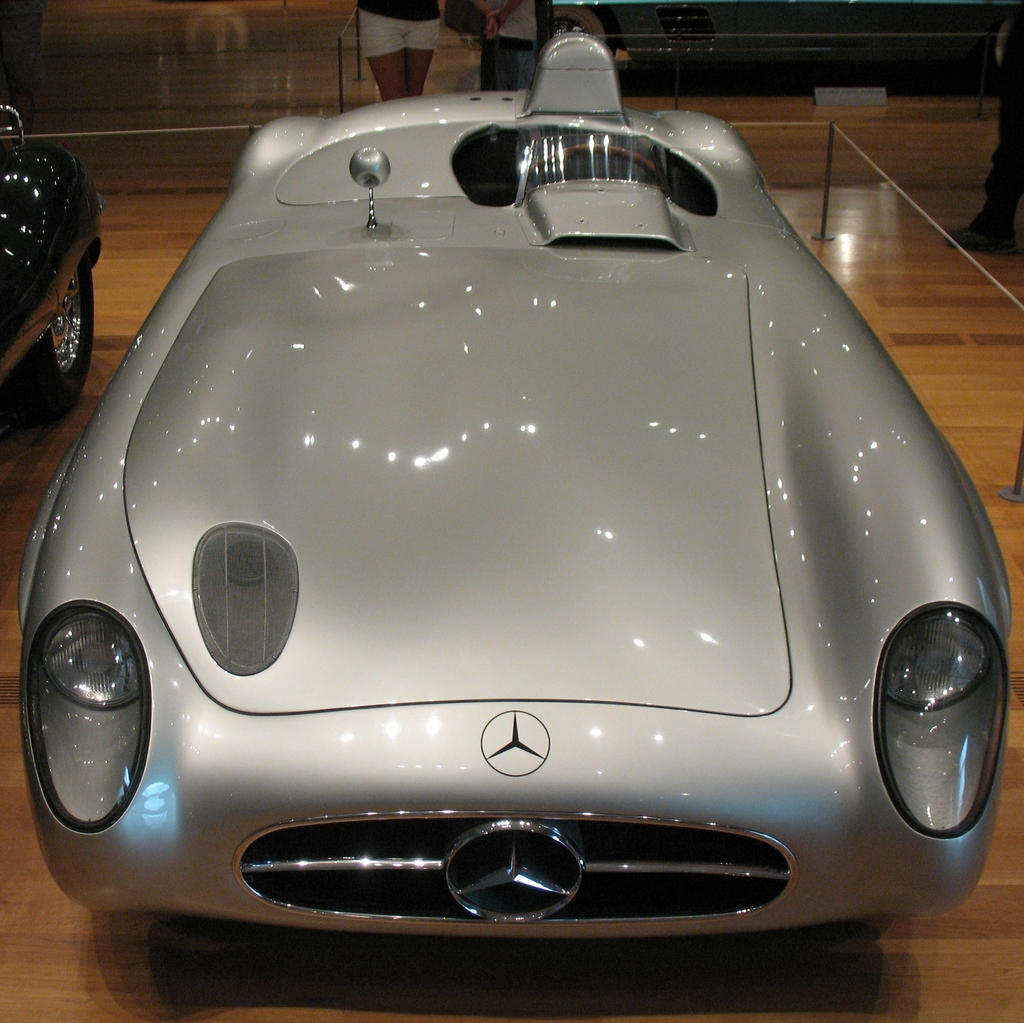Car: (12, 25, 1014, 941), (0, 95, 100, 423)
